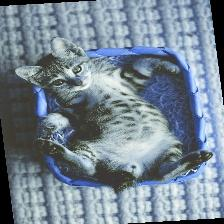kedo: (16, 37, 213, 189)
